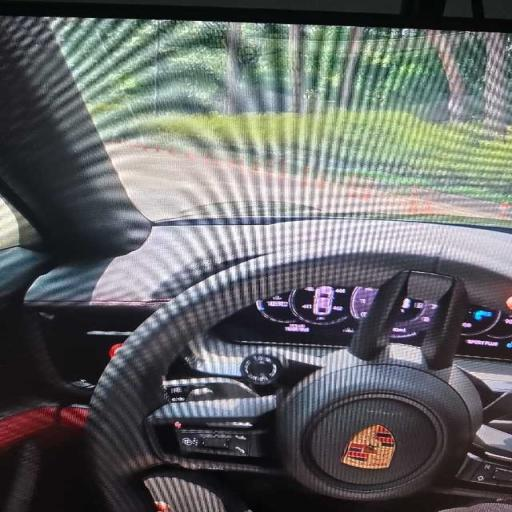car: (0, 2, 511, 511)
lane: (107, 143, 507, 220)
